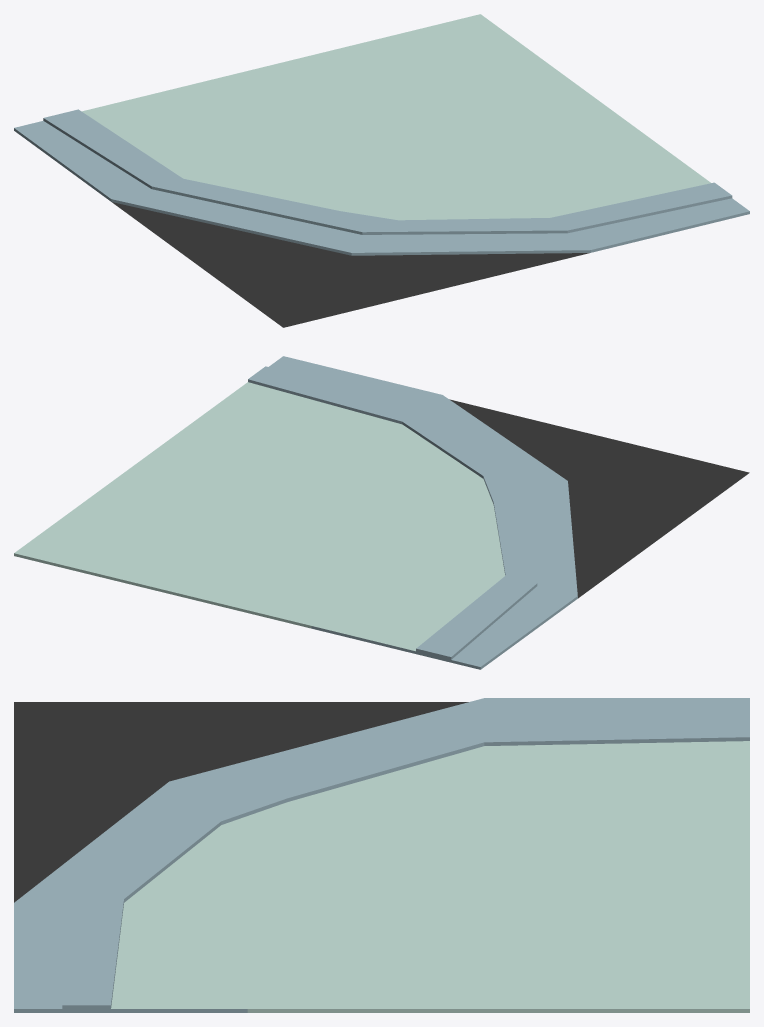
The model's file is Sidewalk2-Turn.fbx.
3 renders of one model, top to bottom at view 1: azimuth 30°, elevation 25°; view 2: azimuth 150°, elevation 25°; view 3: azimuth 270°, elevation 25°, orthographic. The views are drawn at different scales.
Parts seen in each view (by area): view 1: Sidewalk2; view 2: Sidewalk2; view 3: Sidewalk2.
Boxes of the visible parts, left/top/right/bottom form: Sidewalk2: left=14, top=14, right=749, bottom=327; Sidewalk2: left=14, top=356, right=749, bottom=669; Sidewalk2: left=14, top=698, right=749, bottom=1012.
Size of the model in its own units: 350 by 4 by 350.
